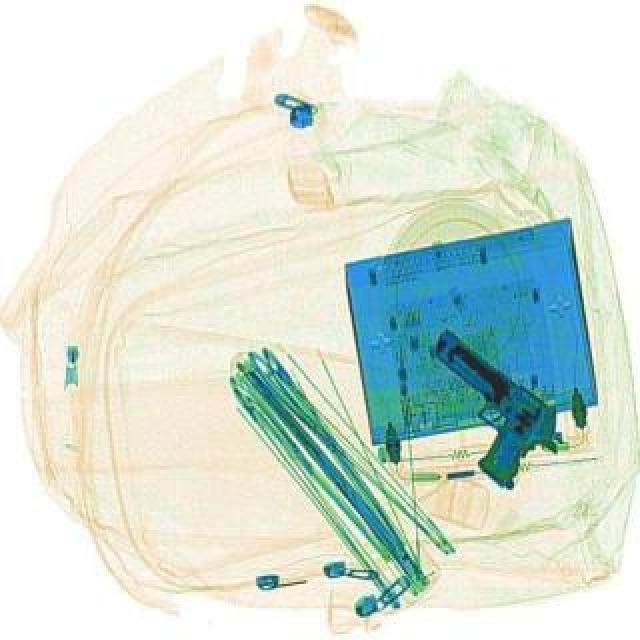gun: (382, 320, 580, 496)
